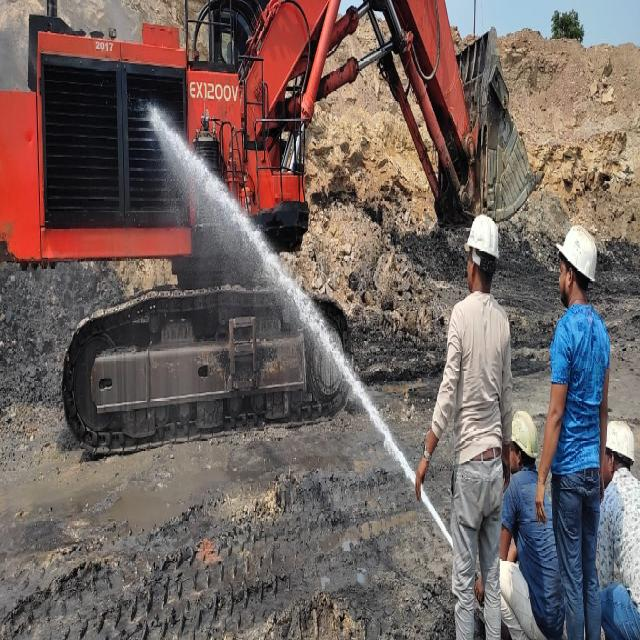excavator: (0, 0, 547, 469)
